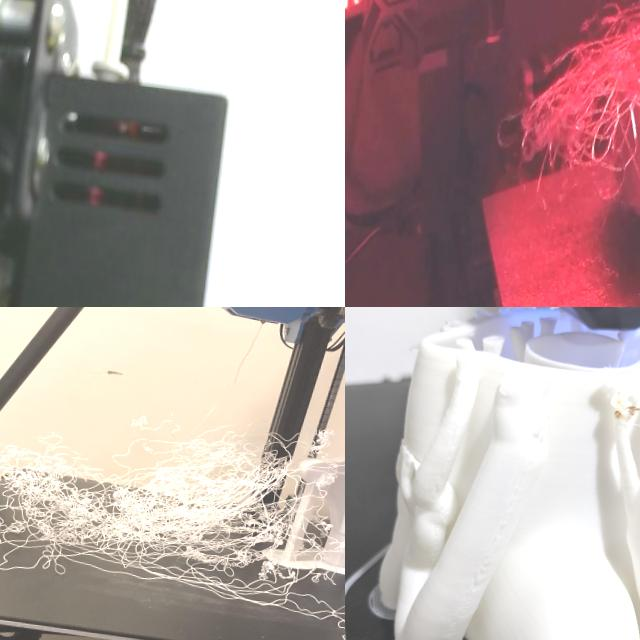spaghetti: (0, 379, 345, 640), (519, 2, 640, 176), (592, 356, 640, 459)
